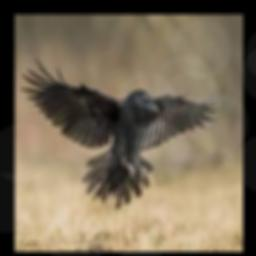Crow: (21, 57, 227, 207)
